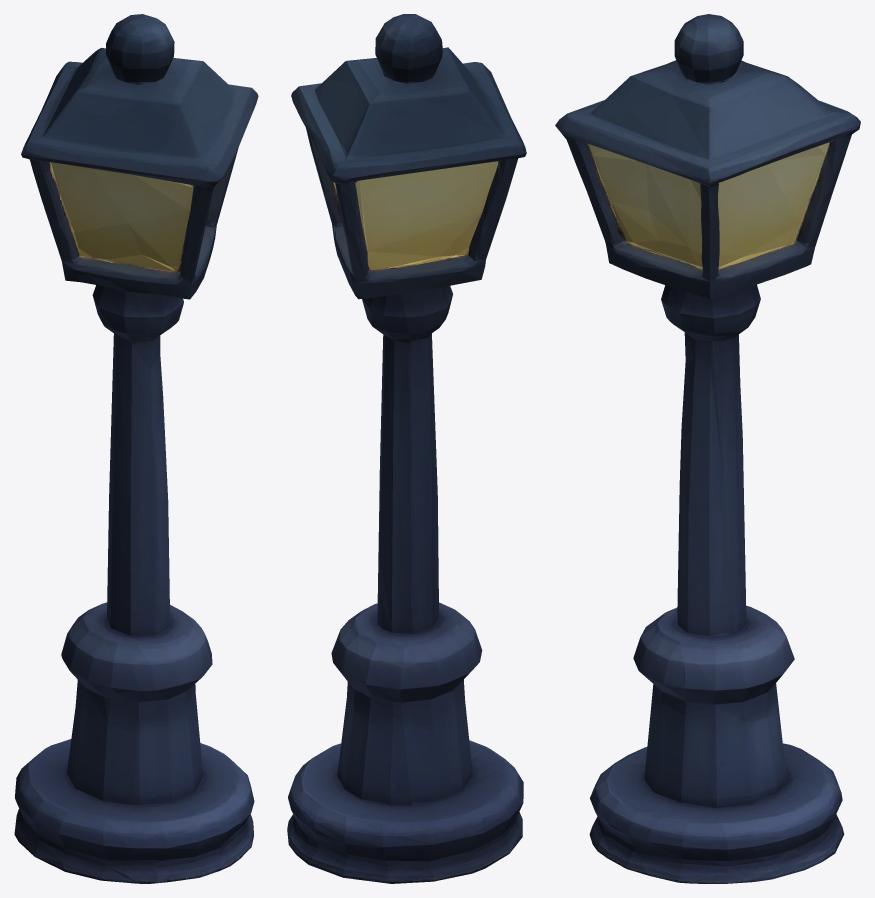
Rendered from lamp_post1.glb.
3 renders of one model, left to right at view 1: azimuth 30°, elevation 25°; view 2: azimuth 150°, elevation 25°; view 3: azimuth 270°, elevation 25°, orthographic.
Visible parts, largest first — view 1: geometry_0; view 2: geometry_0; view 3: geometry_0.
Part boxes in pixels (x1,y1,x2,y2): geometry_0: [14, 14, 258, 883]; geometry_0: [287, 14, 526, 883]; geometry_0: [555, 14, 860, 883].
Bounding box in the file's own units: 0.3043 × 1 × 0.3394.
1 material, 1 textured.
